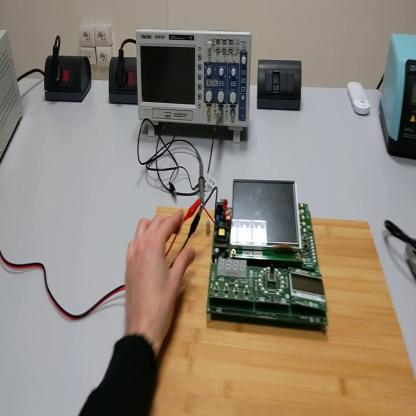hand: (124, 211, 195, 343)
low voltage board: (197, 178, 330, 333)
oscilloscope: (138, 29, 252, 149)
pliers: (407, 242, 416, 281)
power supply: (2, 28, 26, 165)
socket: (44, 56, 93, 102), (109, 56, 140, 108)
welder station: (380, 36, 416, 162)
working area: (148, 202, 416, 415)
